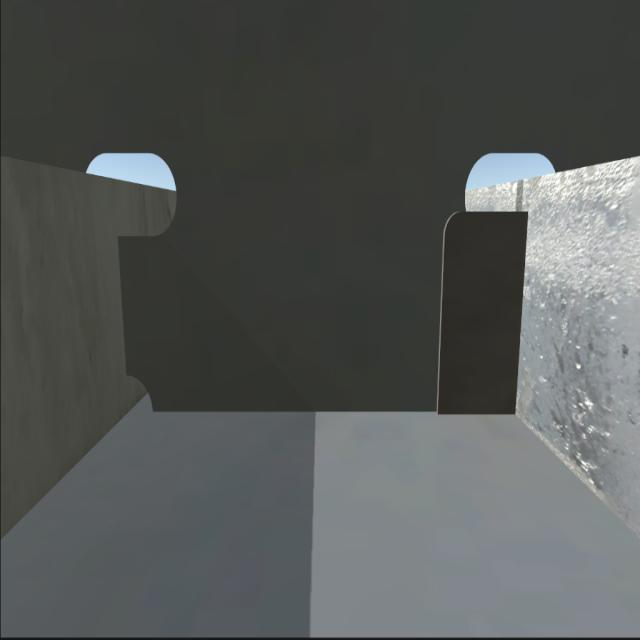fillet_yong_jeop_jang: (156, 406, 516, 418)
longi_yong_jeop_jang: (514, 211, 527, 418), (115, 238, 134, 376)
plate_CP05: (438, 208, 520, 413), (126, 372, 155, 416)
